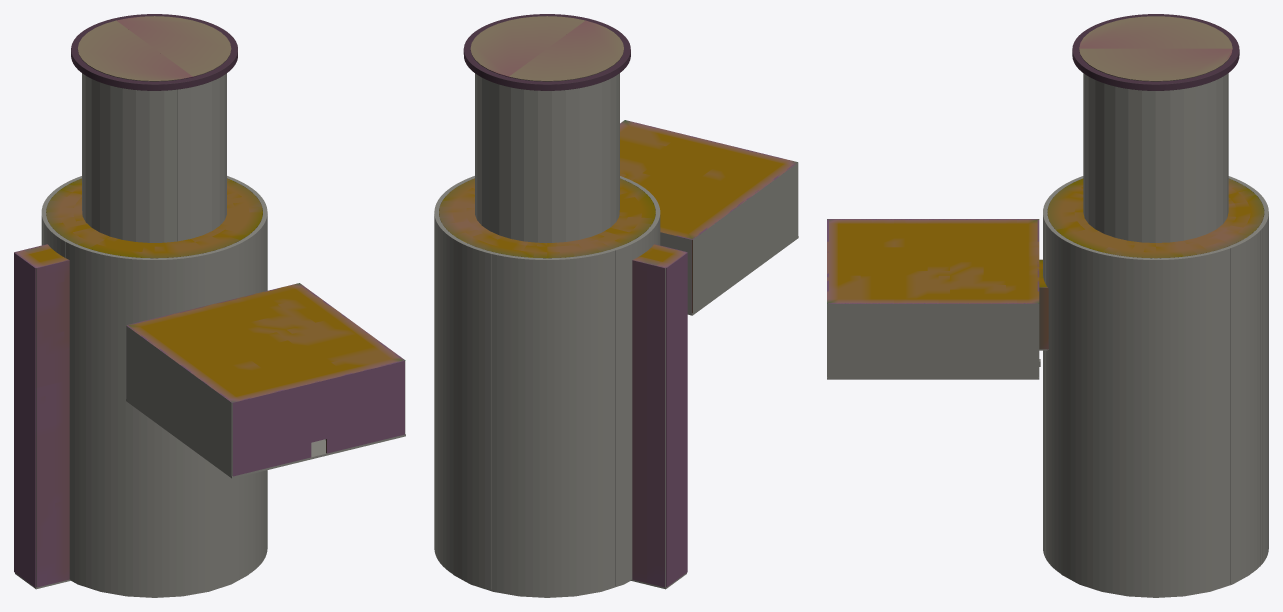
File: nasa_launch.glb
3 views of the same model, side by side, from view 1: azimuth 30°, elevation 25°; view 2: azimuth 150°, elevation 25°; view 3: azimuth 270°, elevation 25° (orthographic).
Visible parts, largest first — view 1: launch_col__m, launch_shell__m, silo_door_w__m, silo_door_e__m, launch_cavern_fx_detail__m; view 2: launch_col__m, launch_shell__m, silo_door_w__m, silo_door_e__m, launch_cavern_fx_detail__m; view 3: launch_col__m, launch_shell__m, silo_door_e__m, silo_door_w__m, launch_cavern_fx_detail__m.
Boxes of the visible parts, x1,y1,x2,y2 form: launch_col__m: [14, 73, 405, 597]; launch_shell__m: [14, 178, 405, 587]; silo_door_w__m: [77, 20, 192, 81]; silo_door_e__m: [116, 16, 231, 76]; launch_cavern_fx_detail__m: [71, 14, 237, 90]; launch_col__m: [434, 73, 798, 597]; launch_shell__m: [439, 120, 797, 587]; silo_door_w__m: [509, 20, 623, 81]; silo_door_e__m: [470, 16, 585, 77]; launch_cavern_fx_detail__m: [463, 14, 630, 257]; launch_col__m: [827, 73, 1268, 597]; launch_shell__m: [827, 178, 1264, 349]; silo_door_e__m: [1079, 48, 1232, 81]; silo_door_w__m: [1079, 16, 1232, 48]; launch_cavern_fx_detail__m: [1072, 14, 1239, 90].
Size of the model in its own units: 58.22 by 123 by 97.82.
